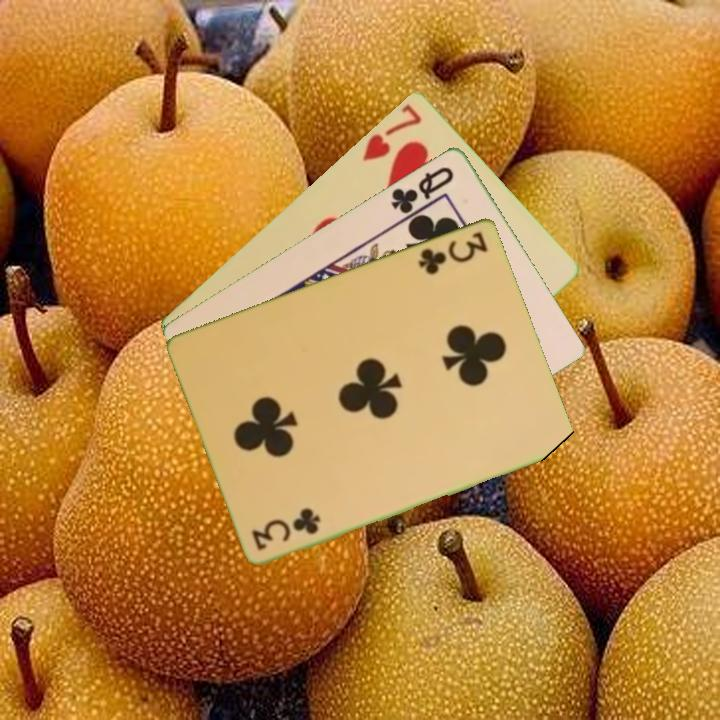3c: (415, 227, 491, 277), (249, 506, 324, 553)
7h: (358, 99, 425, 164)
Qc: (387, 162, 457, 217)
